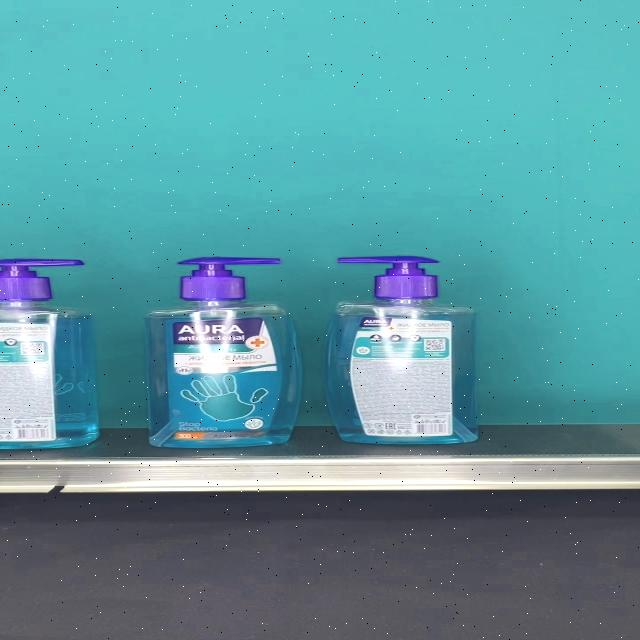Bottle: (144, 258, 302, 448), (327, 256, 479, 445)
Cap: (178, 258, 281, 301), (335, 256, 438, 299)
